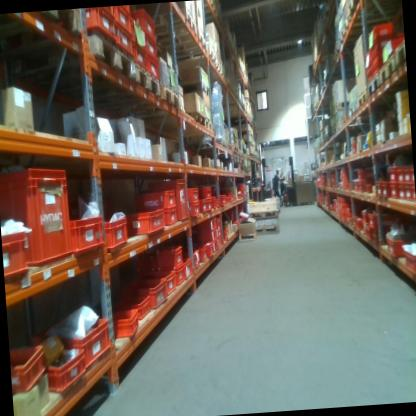pallet: (0, 33, 136, 97), (78, 62, 163, 109), (0, 10, 83, 44), (114, 81, 182, 118), (149, 27, 208, 60), (141, 9, 196, 42), (159, 113, 206, 134), (175, 80, 210, 103), (377, 51, 396, 91), (189, 47, 218, 68), (392, 41, 407, 73), (366, 70, 381, 100), (354, 85, 369, 112), (345, 0, 365, 17), (249, 209, 282, 218), (256, 223, 281, 234), (336, 29, 347, 50), (219, 137, 233, 152), (347, 104, 359, 121), (211, 64, 224, 79), (344, 13, 354, 32), (204, 123, 214, 135), (227, 146, 240, 154), (243, 153, 247, 159)
pallet_truck: (277, 151, 297, 210), (258, 155, 275, 199)
small_load_carrier: (0, 160, 76, 276), (63, 310, 113, 371), (42, 346, 87, 396), (9, 334, 47, 393), (2, 222, 31, 279), (123, 209, 166, 243), (78, 9, 116, 46), (71, 214, 106, 250), (104, 212, 131, 256), (134, 185, 178, 211), (108, 308, 140, 343), (111, 27, 137, 65), (151, 242, 185, 271), (132, 8, 157, 42), (120, 291, 151, 318), (137, 282, 166, 310), (149, 268, 177, 297), (174, 177, 191, 223), (383, 231, 404, 267), (114, 6, 135, 37), (399, 239, 416, 277), (368, 21, 391, 47), (168, 264, 189, 290), (146, 56, 164, 86), (131, 49, 148, 74), (214, 216, 224, 255), (367, 41, 386, 61), (369, 52, 385, 75), (199, 216, 219, 233), (186, 203, 201, 225), (161, 208, 179, 226), (131, 20, 142, 49), (142, 36, 157, 57), (187, 185, 202, 204), (200, 230, 220, 243), (371, 63, 387, 79), (385, 162, 397, 182), (371, 230, 384, 248), (360, 211, 373, 229), (369, 211, 383, 227), (401, 165, 412, 185), (199, 241, 209, 262), (192, 249, 203, 268), (99, 7, 115, 20), (184, 257, 193, 280), (380, 182, 391, 200), (395, 162, 404, 183), (200, 185, 213, 199), (207, 236, 216, 256), (196, 197, 206, 213), (360, 181, 370, 197), (235, 177, 246, 190), (236, 189, 250, 199), (389, 180, 397, 197), (404, 187, 413, 202), (355, 166, 366, 178), (213, 195, 221, 211), (220, 193, 228, 208), (365, 229, 373, 242), (397, 185, 405, 197), (213, 238, 220, 251), (208, 198, 214, 210), (376, 183, 381, 196), (412, 188, 416, 203), (411, 170, 414, 183)
